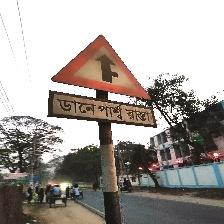Side-road-right: (48, 34, 155, 129)
